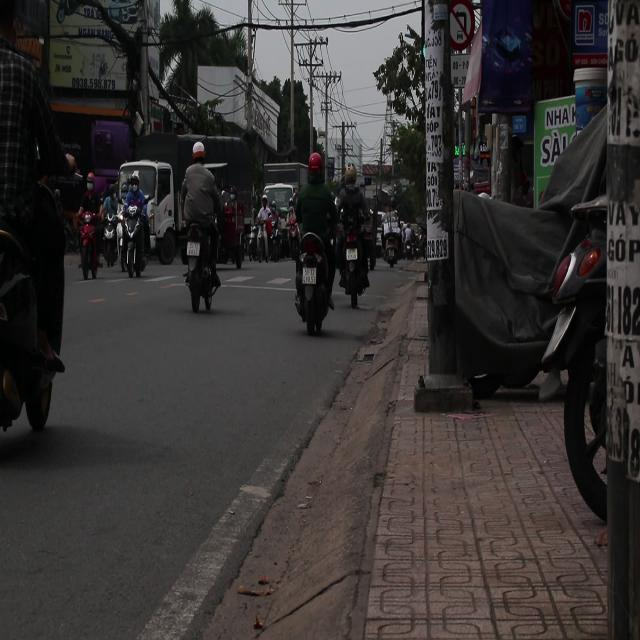motorbike: (172, 197, 224, 318), (292, 218, 338, 332), (66, 184, 105, 286), (116, 197, 150, 279), (338, 224, 368, 309), (94, 197, 125, 267), (248, 215, 277, 266)
truck: (135, 130, 256, 259), (264, 182, 298, 219)
